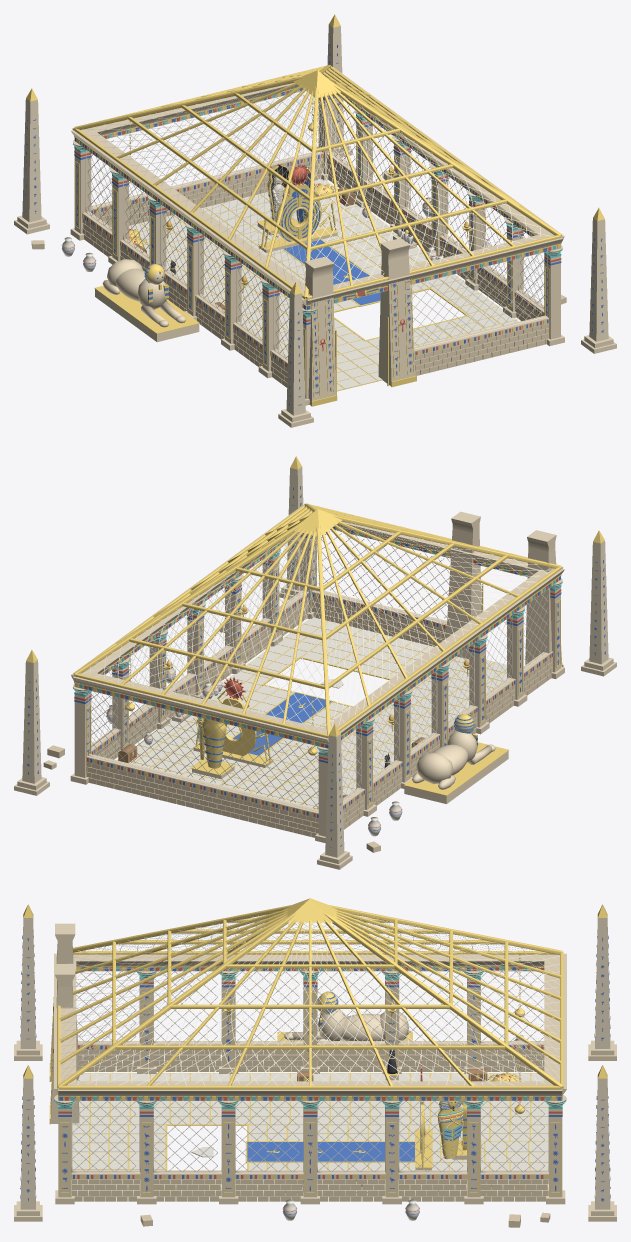
File: PharaohsTombCage.fbx
3 renders of one model, top to bottom at view 1: azimuth 30°, elevation 25°; view 2: azimuth 150°, elevation 25°; view 3: azimuth 270°, elevation 25°, orthographic. The views are drawn at different scales.
Parts seen in each view (by area): view 1: TombSandstone, TombRoofFrame, TombFloor, TombBlocks, TombNet, TombGold, TombPylons, TombObelisks, TombNetRoof, TombNetRoofEnds, TombFloorGold, TombSphinx (+8 smaller); view 2: TombSandstone, TombFloor, TombRoofFrame, TombBlocks, TombNet, TombGold, TombObelisks, TombNetRoof, TombPylons, TombNetRoofEnds, TombFloorGold, TombSphinx (+8 smaller); view 3: TombSandstone, TombRoofFrame, TombFloor, TombBlocks, TombNet, TombNetRoof, TombObelisks, TombNetRoofEnds, TombGold, TombFloorGold, TombLapis, TombPylons (+9 smaller).
Boxes of the visible parts, <box> form: TombSandstone: <box>14,67,616,427</box>; TombRoofFrame: <box>73,65,561,299</box>; TombFloor: <box>129,179,518,390</box>; TombBlocks: <box>31,158,566,387</box>; TombNet: <box>85,92,547,359</box>; TombGold: <box>26,14,604,406</box>; TombPylons: <box>304,238,415,405</box>; TombObelisks: <box>22,25,608,415</box>; TombNetRoof: <box>82,71,440,288</box>; TombNetRoofEnds: <box>308,95,550,295</box>; TombFloorGold: <box>129,179,518,391</box>; TombSphinx: <box>102,259,185,327</box>; TombSandstone: <box>14,505,616,869</box>; TombFloor: <box>117,618,506,808</box>; TombRoofFrame: <box>73,503,561,738</box>; TombBlocks: <box>43,597,552,852</box>; TombNet: <box>88,531,548,811</box>; TombGold: <box>26,456,604,816</box>; TombObelisks: <box>22,467,608,857</box>; TombNetRoof: <box>180,507,549,729</box>; TombPylons: <box>446,511,562,678</box>; TombNetRoofEnds: <box>80,533,323,732</box>; TombFloorGold: <box>117,619,506,808</box>; TombSphinx: <box>412,731,495,789</box>; TombSandstone: <box>14,953,616,1221</box>; TombRoofFrame: <box>57,905,563,1089</box>; TombFloor: <box>71,1073,548,1196</box>; TombBlocks: <box>72,1050,550,1227</box>; TombNet: <box>71,971,548,1172</box>; TombNetRoof: <box>68,917,544,1085</box>; TombObelisks: <box>20,914,610,1209</box>; TombNetRoofEnds: <box>60,912,559,1082</box>; TombGold: <box>23,904,607,1193</box>; TombFloorGold: <box>71,1073,548,1196</box>; TombLapis: <box>247,991,414,1161</box>; TombPylons: <box>51,923,79,1123</box>.
Bounding box in the file's own units: 1076 × 641 × 1475.
